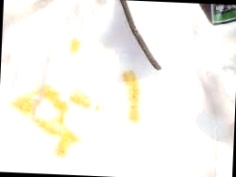mustard: (124, 69, 143, 123), (54, 130, 77, 161), (24, 119, 60, 135), (67, 95, 96, 114), (12, 93, 37, 113), (50, 108, 69, 132), (39, 87, 64, 105), (67, 34, 82, 61)
